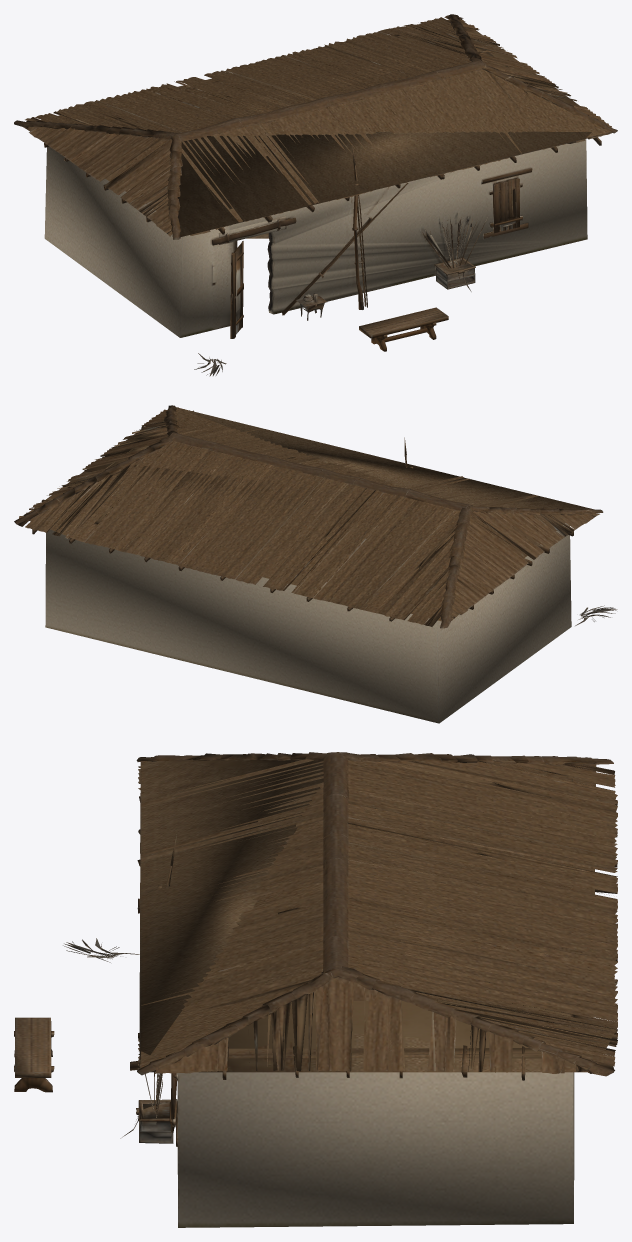
File: muhafiz_kislasi.glb
3 views of the same model, one above another, from view 1: azimuth 30°, elevation 25°; view 2: azimuth 150°, elevation 25°; view 3: azimuth 270°, elevation 25° (orthographic). The views are drawn at different scales.
Bounding box in the file's own units: 0.9438 × 0.332 × 0.7593.
1 material, 1 textured.
